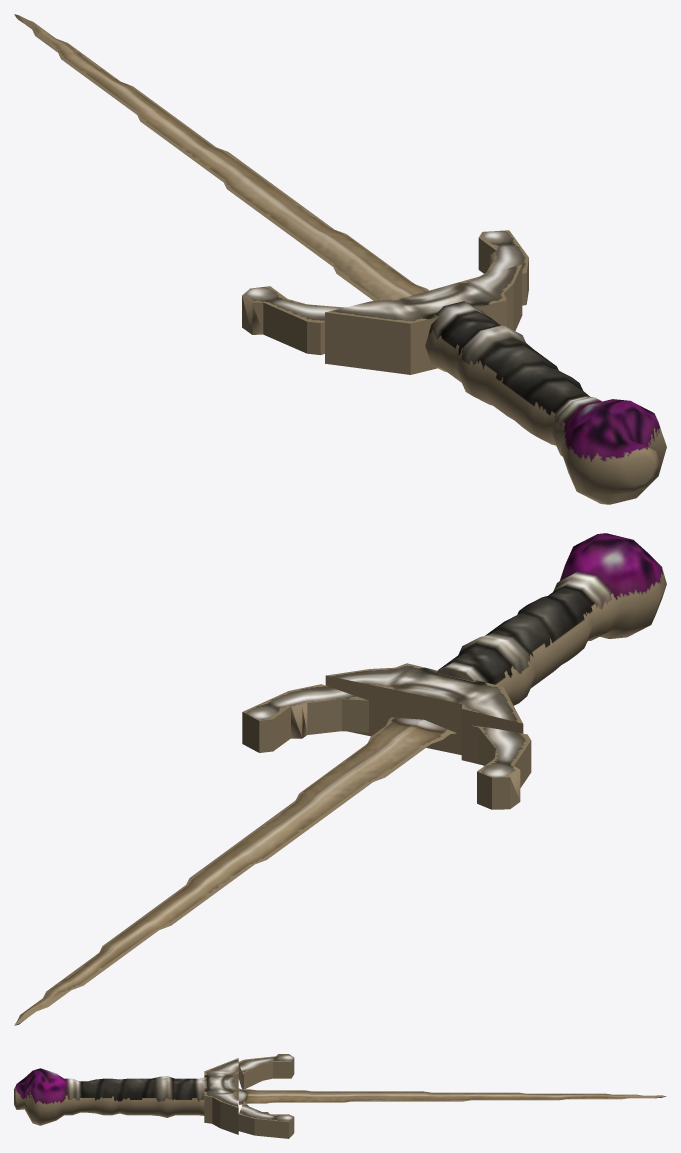
File: item_mm9_10180.glb
3 views of the same model, one above another, from view 1: azimuth 30°, elevation 25°; view 2: azimuth 150°, elevation 25°; view 3: azimuth 270°, elevation 25° (orthographic). The views are drawn at different scales.
Visible parts, largest first — view 1: d10180; view 2: d10180; view 3: d10180.
Boxes of the visible parts, x1,y1,x2,y2 form: d10180: [14, 14, 666, 504]; d10180: [14, 533, 666, 1025]; d10180: [14, 1054, 666, 1138].
Bounding box in the file's own units: 27.34 × 9.38 × 111.
Materials: 1 (1 with a texture image).
